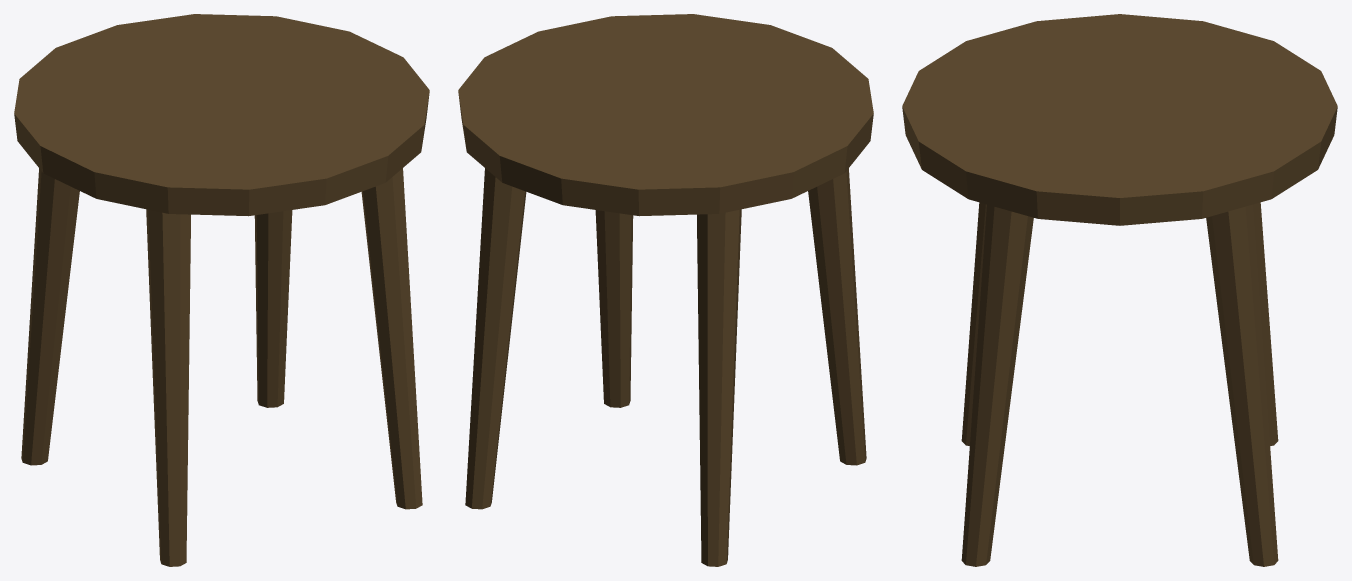
Rendered from round_table.glb.
3 renders of one model, left to right at view 1: azimuth 30°, elevation 25°; view 2: azimuth 150°, elevation 25°; view 3: azimuth 270°, elevation 25°, orthographic. The views are drawn at different scales.
Visible parts, largest first — view 1: round_table; view 2: round_table; view 3: round_table.
Part boxes in pixels (x1,y1,x2,y2): round_table: (14,14,429,566); round_table: (458,14,873,566); round_table: (902,14,1337,566).
Bounding box in the file's own units: 1 × 1 × 1.
